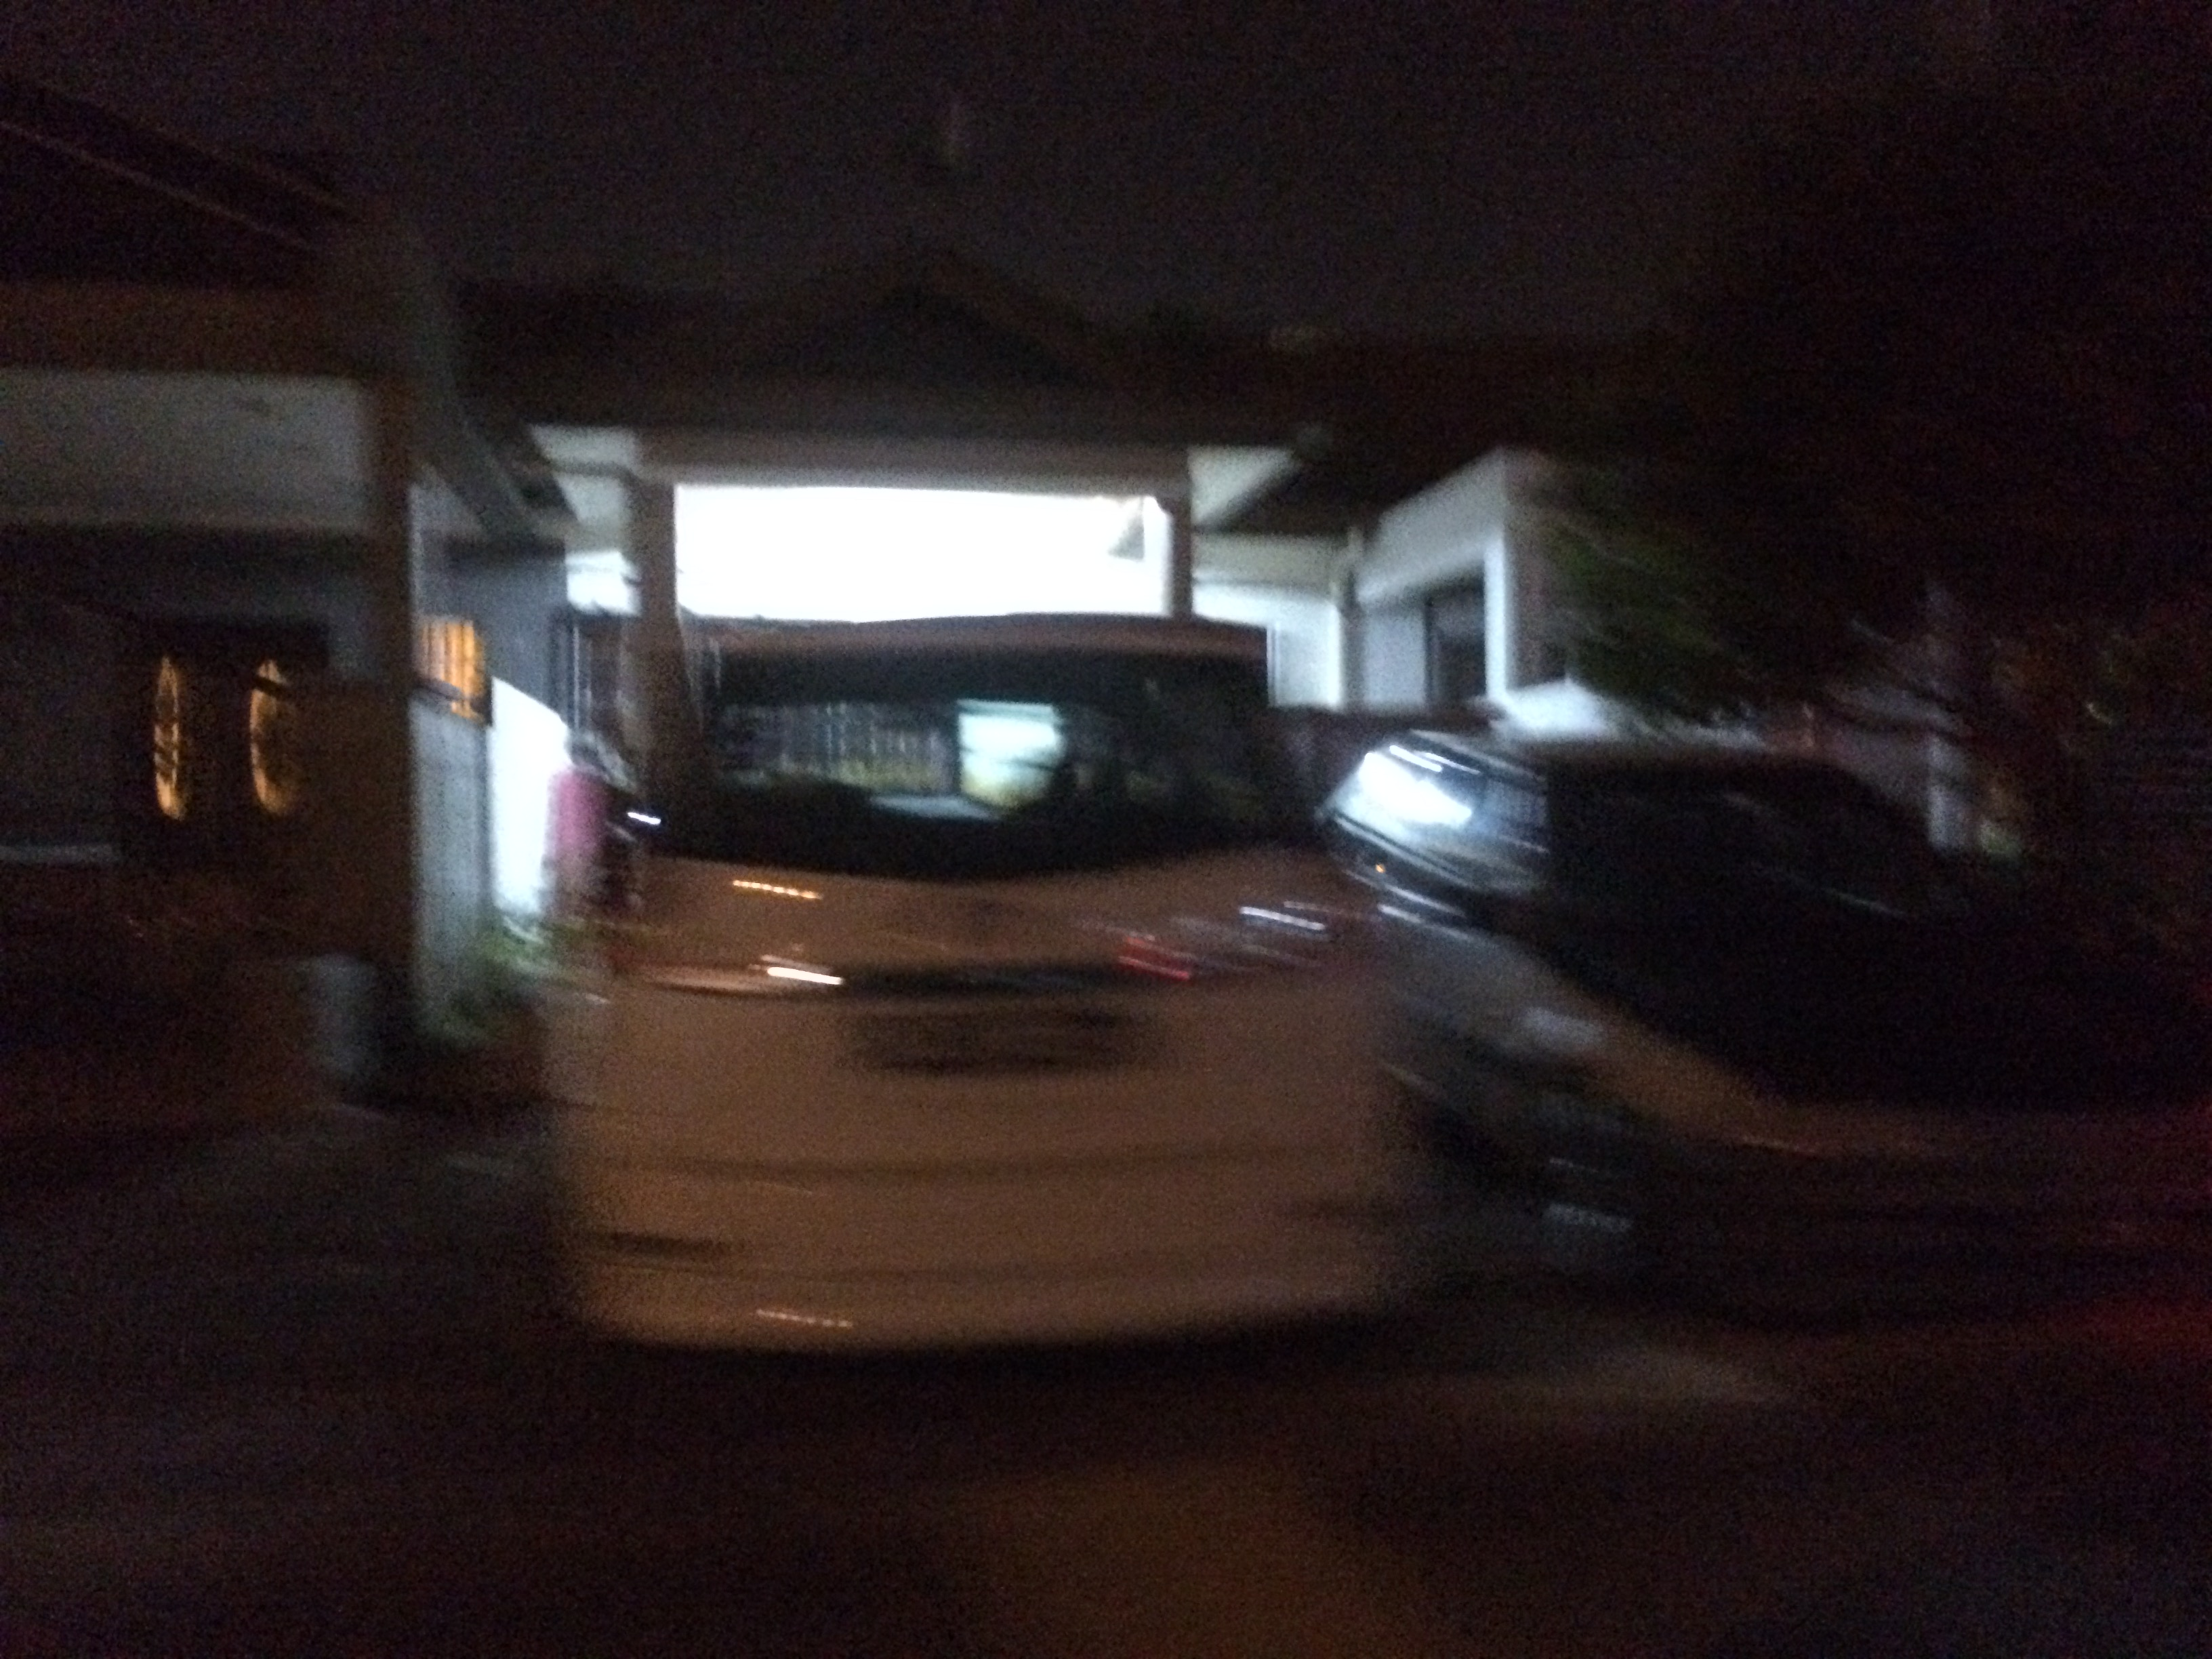car: (502, 622, 1442, 1401)
